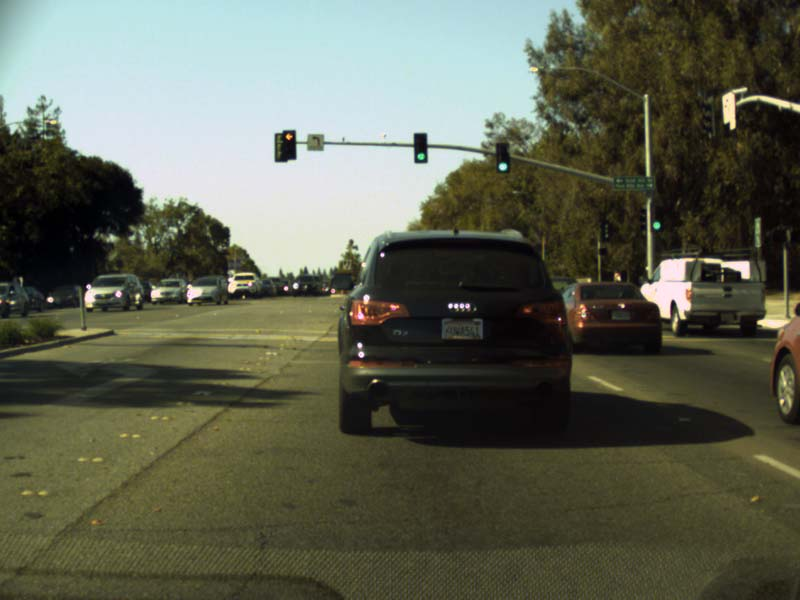Green: (494, 142, 510, 172), (413, 132, 427, 163), (651, 207, 662, 231)
Red: (280, 130, 296, 160)
